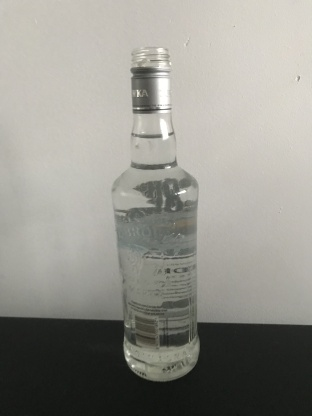nakretka: (129, 45, 173, 114)
